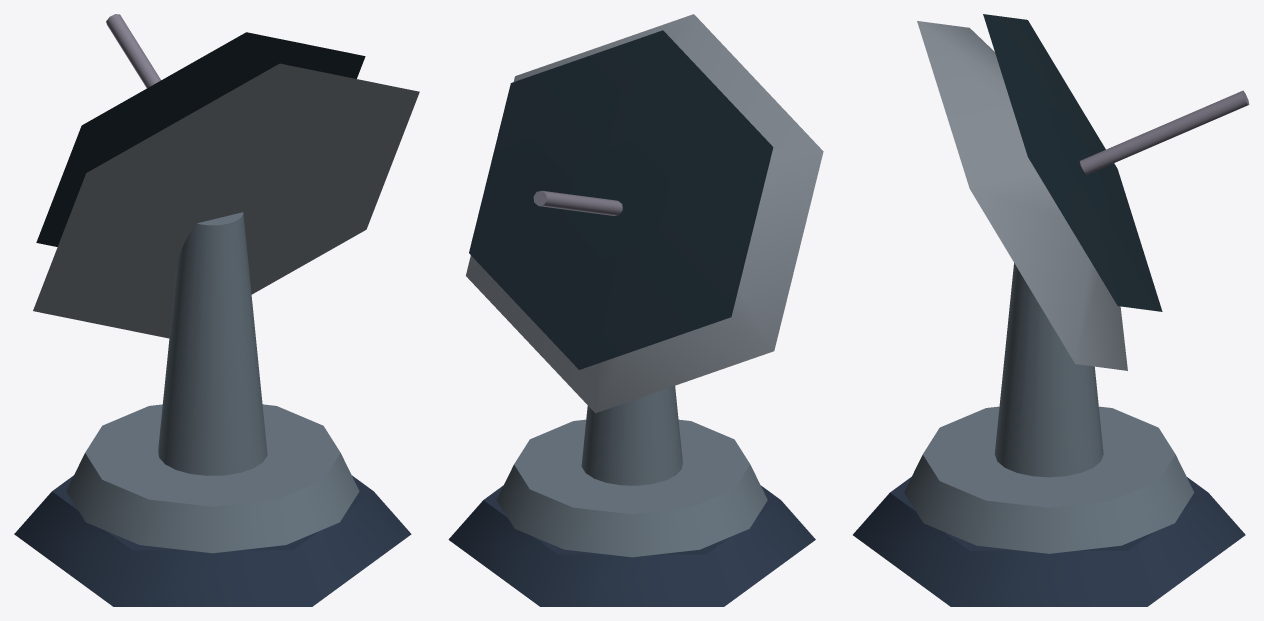
File: cryogenic_hydrocarbon--sensor_array.glb
The picture shows the model from 3 angles, left to right: view 1: azimuth 30°, elevation 25°; view 2: azimuth 150°, elevation 25°; view 3: azimuth 270°, elevation 25°; orthographic projection. The views are drawn at different scales.
Parts seen in each view (by area): view 1: sensor_dish_4, rotation_bearing_2, mount_adapter_1, sensor_mast_3, array_face_5, receiver_6; view 2: array_face_5, sensor_dish_4, rotation_bearing_2, mount_adapter_1, sensor_mast_3, receiver_6; view 3: rotation_bearing_2, sensor_dish_4, mount_adapter_1, array_face_5, sensor_mast_3, receiver_6.
Part boxes in pixels (x1=…): sensor_dish_4: x1=33, y1=63, x2=419, y2=338; rotation_bearing_2: x1=66, y1=404, x2=359, y2=553; mount_adapter_1: x1=14, y1=475, x2=411, y2=606; sensor_mast_3: x1=158, y1=212, x2=267, y2=475; array_face_5: x1=36, y1=32, x2=365, y2=246; receiver_6: x1=106, y1=14, x2=160, y2=88; array_face_5: x1=469, y1=30, x2=773, y2=369; sensor_dish_4: x1=466, y1=14, x2=823, y2=413; rotation_bearing_2: x1=496, y1=419, x2=767, y2=557; mount_adapter_1: x1=448, y1=485, x2=815, y2=606; sensor_mast_3: x1=581, y1=386, x2=682, y2=485; receiver_6: x1=533, y1=190, x2=622, y2=215; rotation_bearing_2: x1=904, y1=406, x2=1194, y2=553; sensor_dish_4: x1=917, y1=21, x2=1127, y2=370; mount_adapter_1: x1=853, y1=477, x2=1245, y2=606; array_face_5: x1=983, y1=14, x2=1162, y2=311; sensor_mast_3: x1=994, y1=263, x2=1103, y2=477; receiver_6: x1=1079, y1=90, x2=1249, y2=174.
Size of the model in its own units: 9.77 by 14.73 by 10.17.
